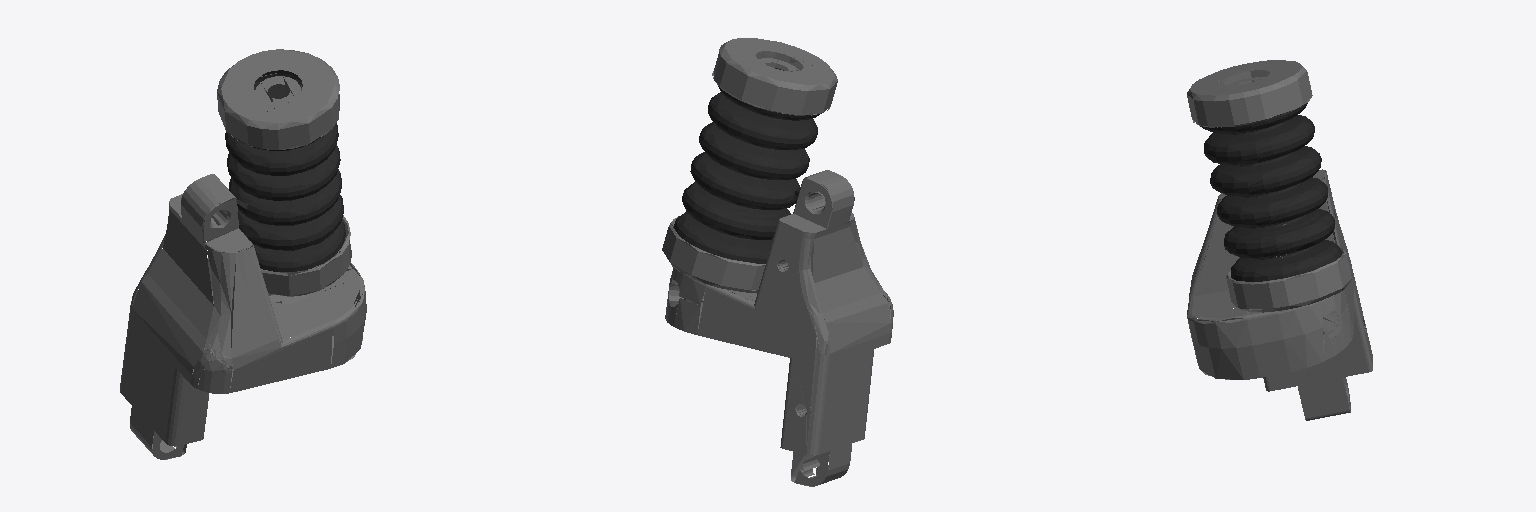
3 views of the same model, side by side, from view 1: azimuth 30°, elevation 25°; view 2: azimuth 150°, elevation 25°; view 3: azimuth 270°, elevation 25° (orthographic).
Size of the model in its own units: 0.0235 by 0.047 by 0.0204.
Materials: 1 (1 with a texture image).